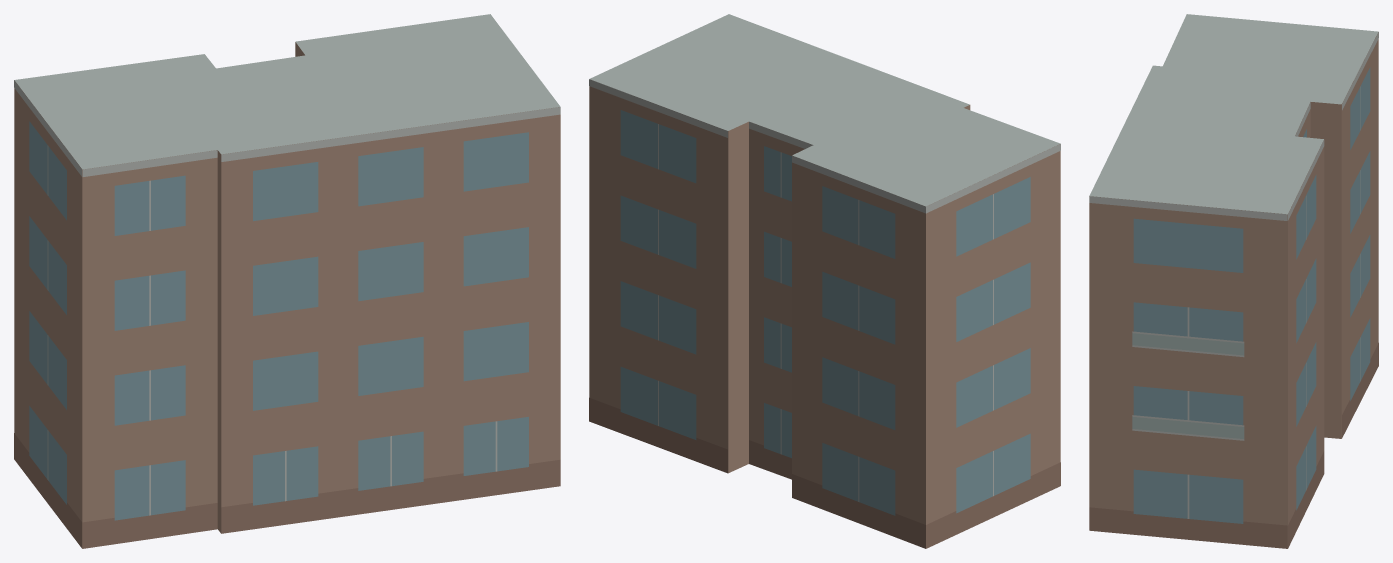
File: survey-upis-32825654.glb
3 views of the same model, side by side, from view 1: azimuth 30°, elevation 25°; view 2: azimuth 150°, elevation 25°; view 3: azimuth 270°, elevation 25° (orthographic). The views are drawn at different scales.
Parts seen in each view (by area): view 1: survey-upis-32825654.tmp; view 2: survey-upis-32825654.tmp; view 3: survey-upis-32825654.tmp.
Part boxes in pixels (x1,y1,x2,y2): survey-upis-32825654.tmp: (14, 14, 560, 548); survey-upis-32825654.tmp: (589, 14, 1060, 548); survey-upis-32825654.tmp: (1089, 14, 1378, 548).
Bounding box in the file's own units: 15.29 × 11.9 × 9.34.
